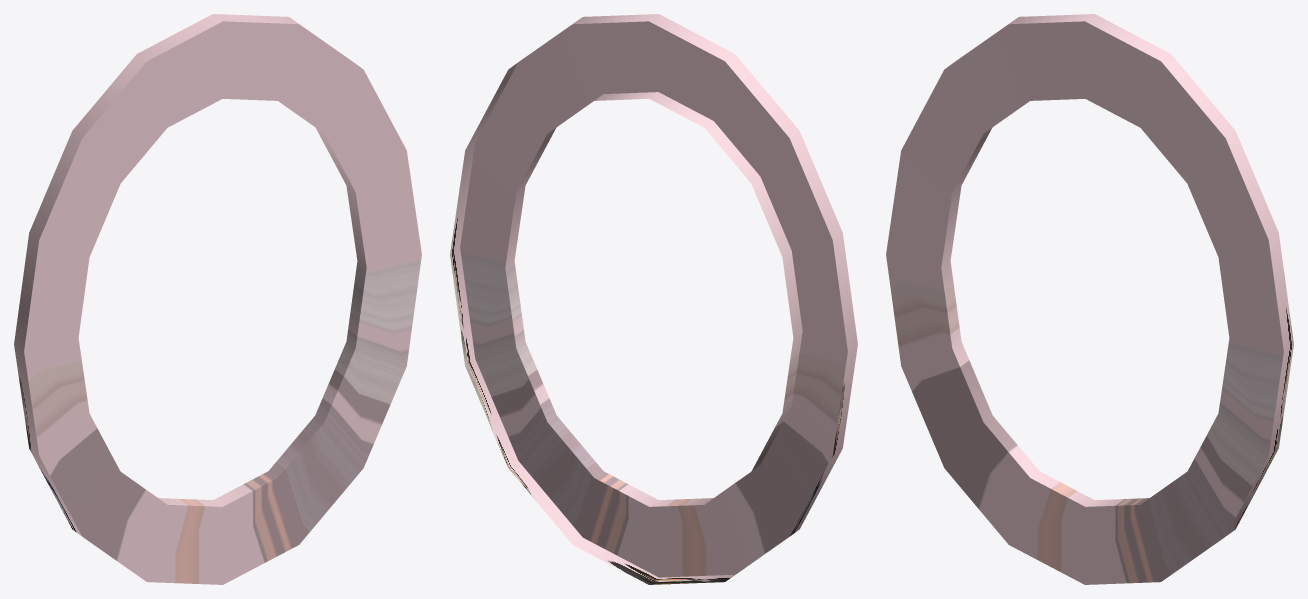
The model's file is frame_2.fbx.
3 renders of one model, left to right at view 1: azimuth 30°, elevation 25°; view 2: azimuth 150°, elevation 25°; view 3: azimuth 330°, elevation 25°, orthographic.
Visible parts, largest first — view 1: Cylinder; view 2: Cylinder; view 3: Cylinder.
Part boxes in pixels (left/top/right/bottom): Cylinder: left=14, top=14, right=421, bottom=584; Cylinder: left=450, top=14, right=857, bottom=584; Cylinder: left=886, top=14, right=1293, bottom=584.
Bounding box in the file's own units: 52.32 × 70.82 × 2.29.
